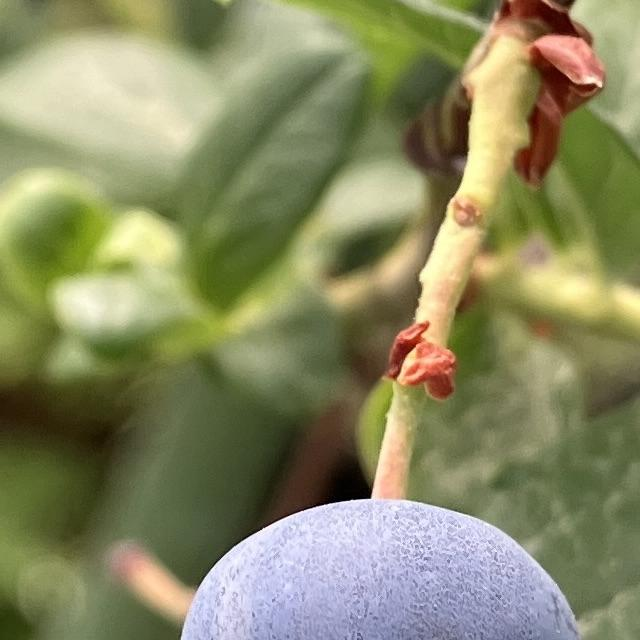Blueberries: (151, 494, 586, 640)
